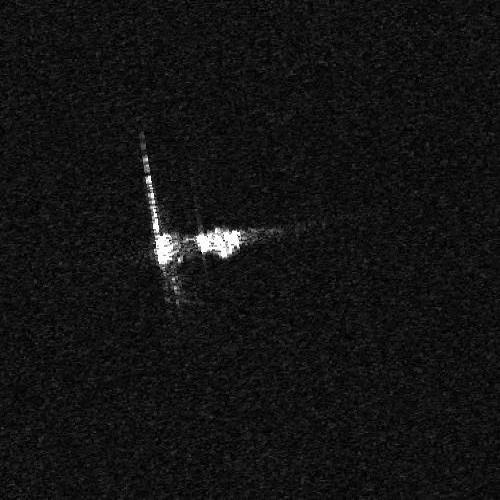ship: (153, 225, 254, 267)
